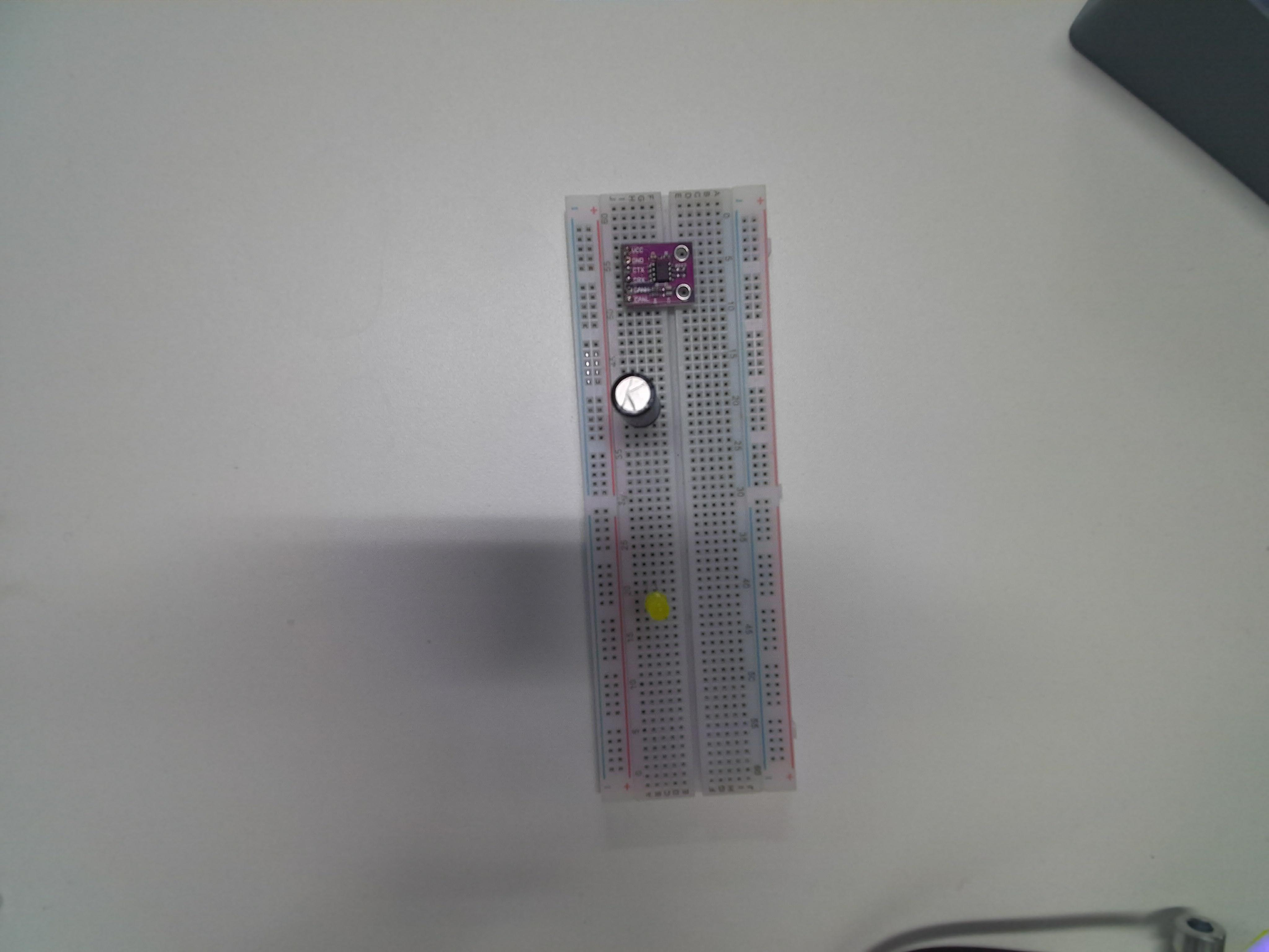base: (563, 182, 799, 805)
capacitor: (611, 373, 657, 424)
purple-board: (613, 237, 698, 314)
yellow-led: (643, 588, 675, 629)
